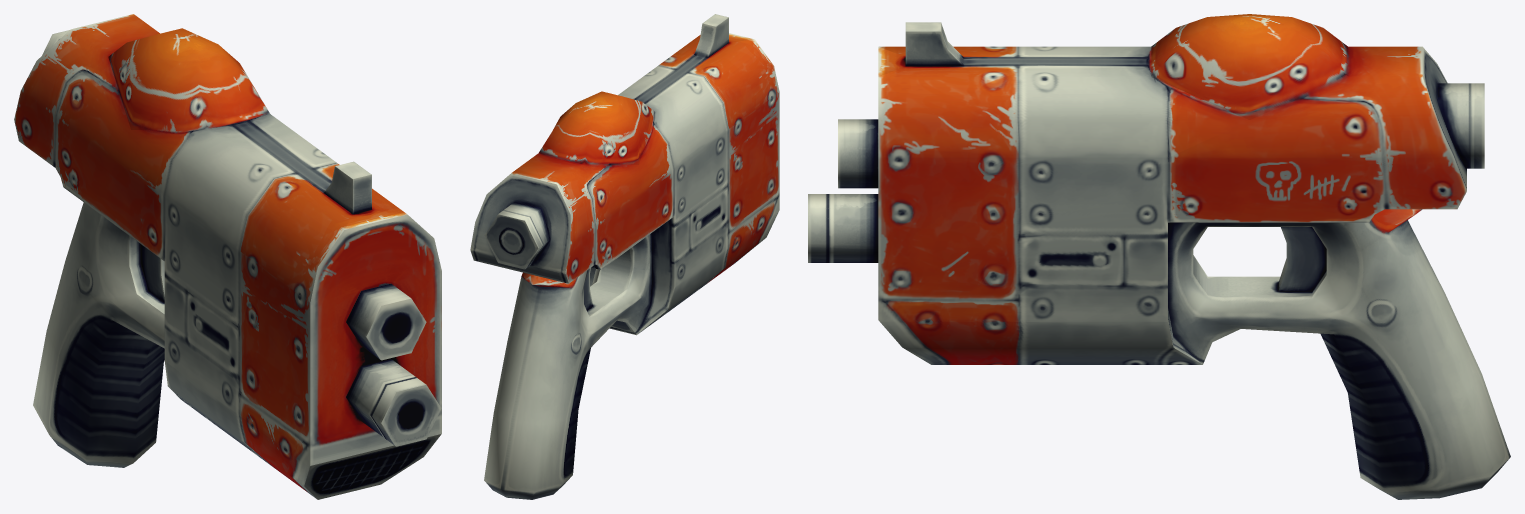
Rendered from gun_02.fbx.
The picture shows the model from 3 angles, left to right: view 1: azimuth 30°, elevation 25°; view 2: azimuth 150°, elevation 25°; view 3: azimuth 270°, elevation 25°; orthographic projection. The views are drawn at different scales.
Parts seen in each view (by area): view 1: gun_02; view 2: gun_02; view 3: gun_02.
Boxes of the visible parts, x1=… form: gun_02: x1=14, y1=14, x2=441, y2=499; gun_02: x1=470, y1=14, x2=779, y2=499; gun_02: x1=808, y1=14, x2=1510, y2=499.
Size of the model in its own units: 2.91 by 10.04 by 13.58.
